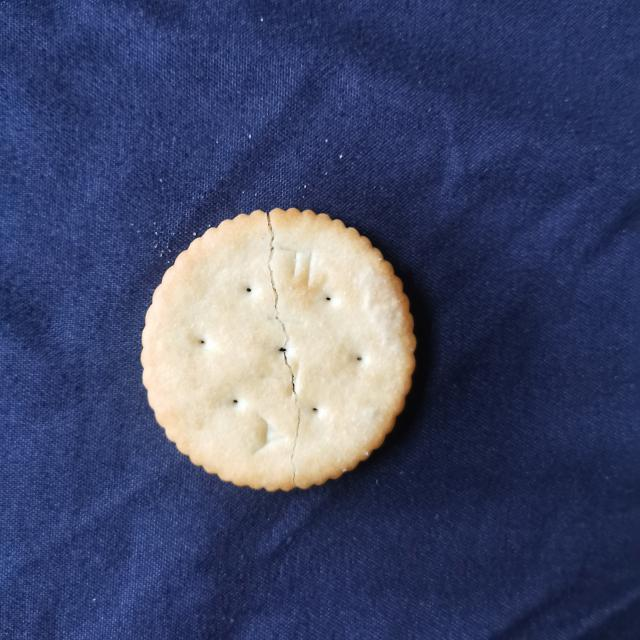Fracture: (254, 206, 307, 492)
